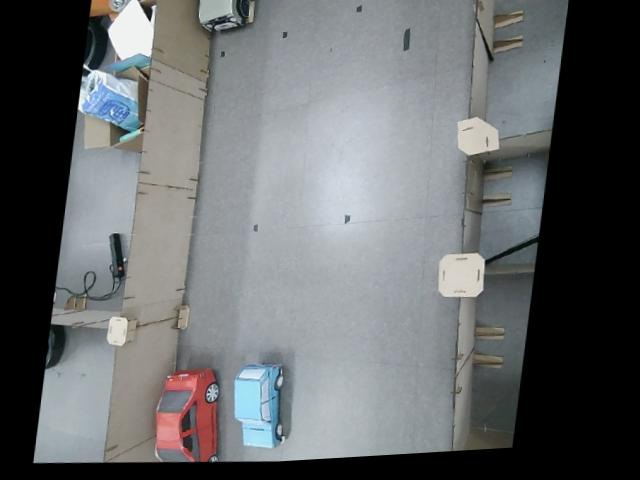car: (148, 363, 230, 466), (225, 359, 292, 451), (190, 0, 254, 35)
